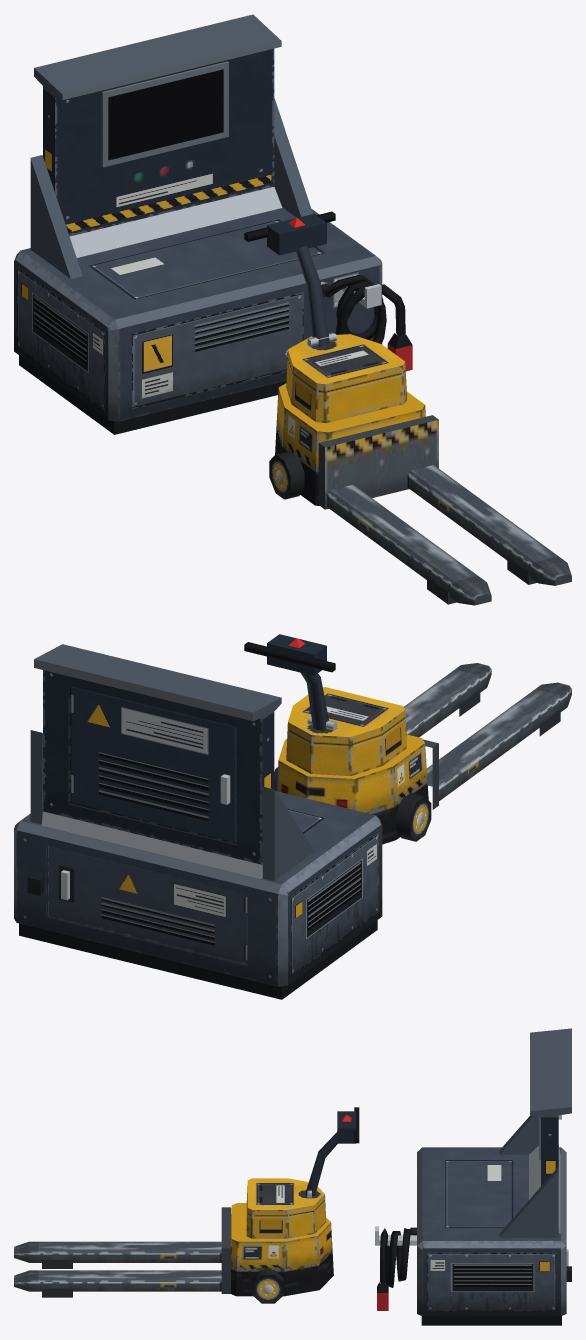
File: yard-pallet-charger-body.glb
3 renders of one model, top to bottom at view 1: azimuth 30°, elevation 25°; view 2: azimuth 150°, elevation 25°; view 3: azimuth 270°, elevation 25°, orthographic. The views are drawn at different scales.
Parts seen in each view (by area): view 1: Yard-pallet-charger-bodyBody; view 2: Yard-pallet-charger-bodyBody; view 3: Yard-pallet-charger-bodyBody.
Boxes of the visible parts, <box> form: Yard-pallet-charger-bodyBody: <box>14,14,571,605</box>; Yard-pallet-charger-bodyBody: <box>14,634,571,999</box>; Yard-pallet-charger-bodyBody: <box>14,1028,571,1325</box>.
Size of the model in its own units: 1.5 by 1.5 by 3.6.
1 material, 1 textured.
